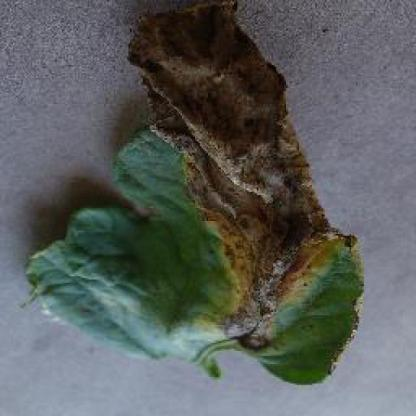Tomato_Blight: (24, 5, 364, 387)
